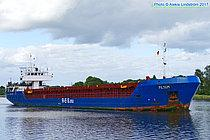Ship: (4, 60, 203, 116)
